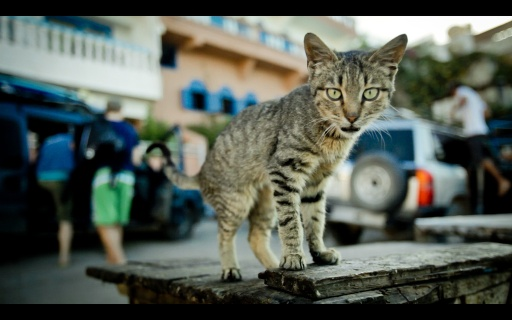Cat: (163, 30, 407, 280)
